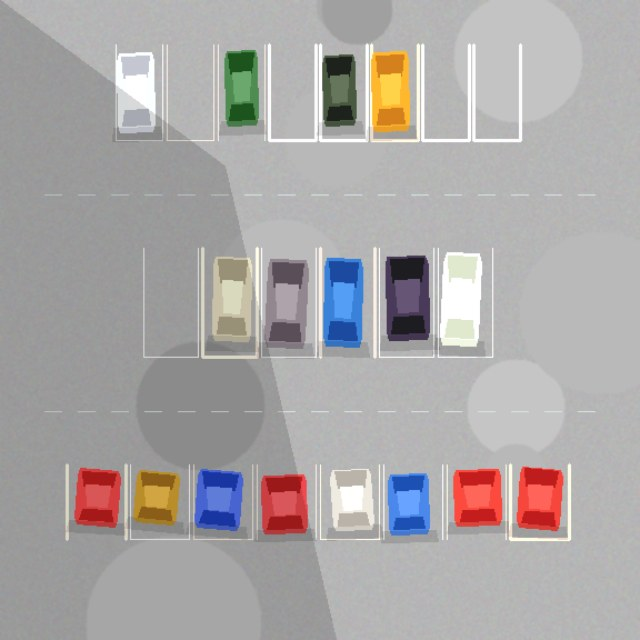space-empty: (143, 248, 198, 357), (269, 44, 316, 140), (422, 44, 469, 140), (473, 44, 520, 140), (167, 44, 213, 140)
space-occupied: (202, 248, 257, 357), (261, 248, 316, 357), (320, 248, 374, 357), (379, 248, 433, 357), (438, 248, 492, 357), (320, 44, 367, 140), (371, 44, 418, 140), (67, 464, 126, 539), (130, 464, 189, 539), (193, 464, 252, 539), (257, 464, 316, 539), (320, 464, 379, 539), (383, 464, 442, 539), (447, 464, 506, 539), (510, 464, 569, 539), (116, 44, 162, 140), (218, 44, 264, 140)
